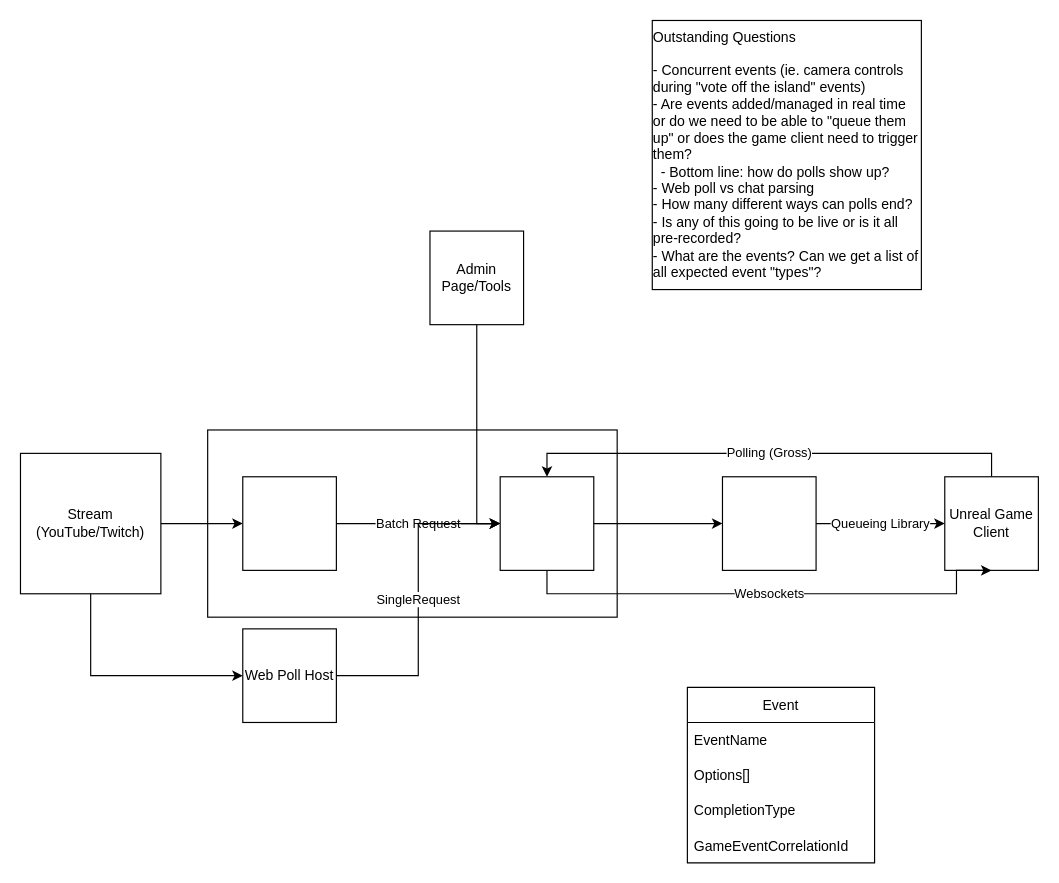
This 1059x883 diagram has some shape labels left out. The shapes that lost their labels are listed below. From the top down, each one's box as (x1, y1, x2, y2) in pixels, then its label:
(242, 476, 336, 570): Bot/Listener
(499, 476, 594, 570): Game Service
(721, 476, 816, 570): Event Queue
